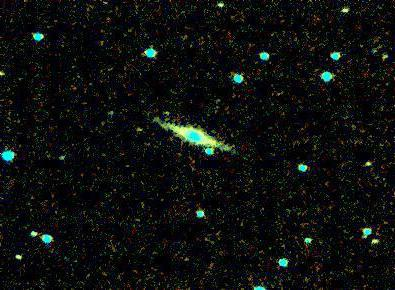star: (126, 114, 156, 144)
